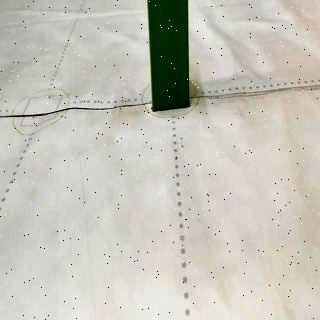greenbox: (144, 1, 194, 112)
